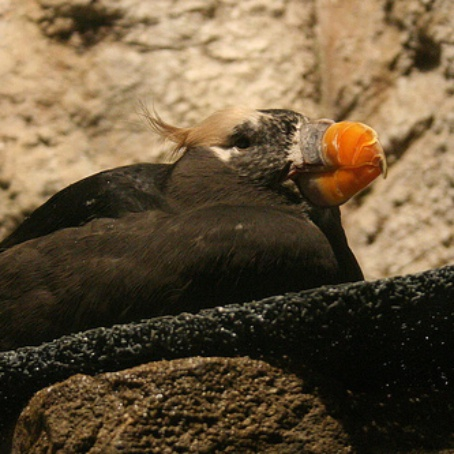animal: (3, 96, 381, 356)
